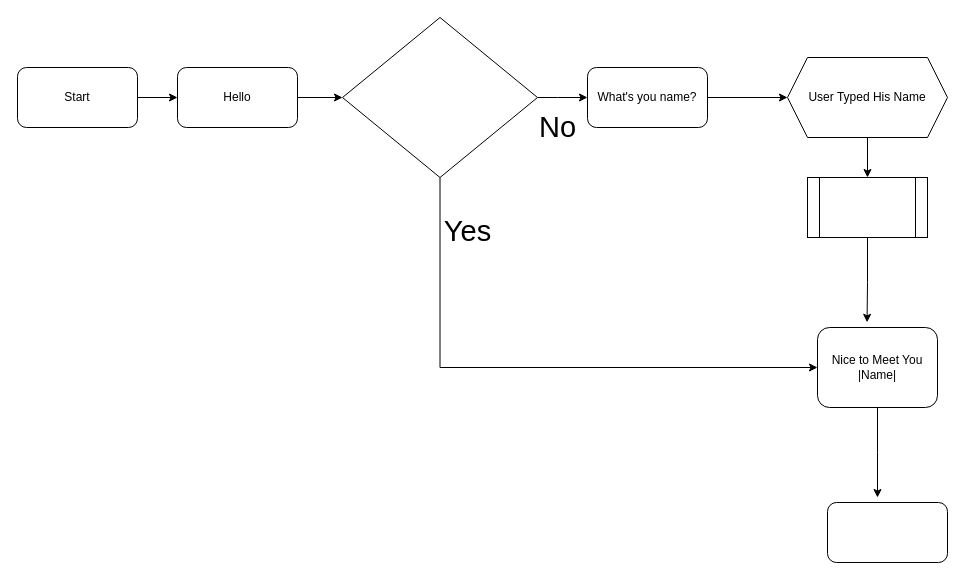
This 965x580 diagram has some shape labels left out. The shapes that lost their labels are listed below. From the top down, each one's centre as x and y in pixels, then its label:
[440,97]: Do we have a |Name| fot this user ?
[867,207]: Save Value to |Name|
[887,532]: End
